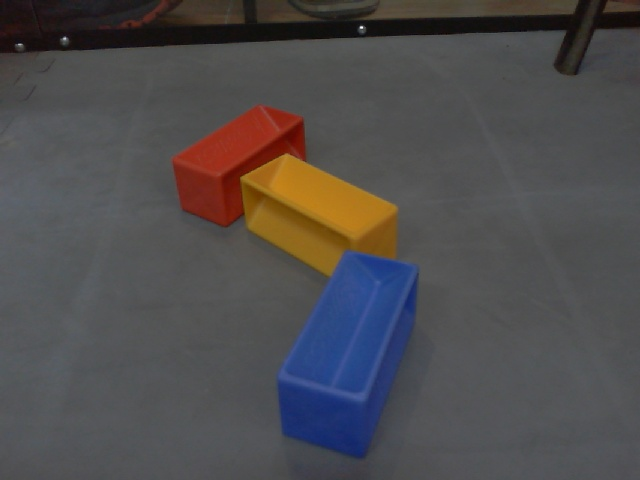BlueSample: (272, 244, 419, 461)
RedSample: (169, 102, 309, 230)
YellowSample: (239, 148, 398, 273)
